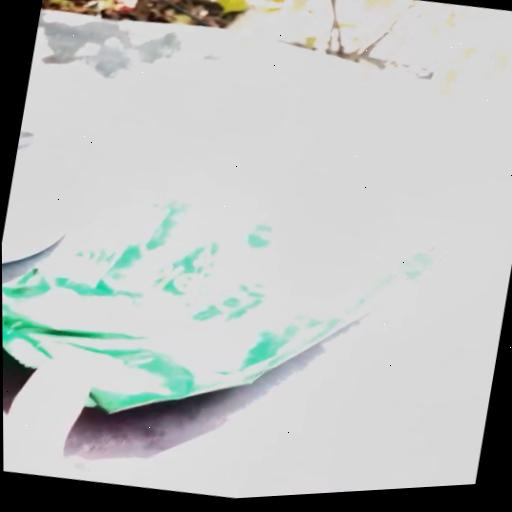cafe_xay: (2, 156, 450, 412)
